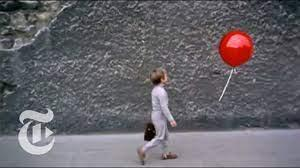red: (219, 29, 253, 68)
